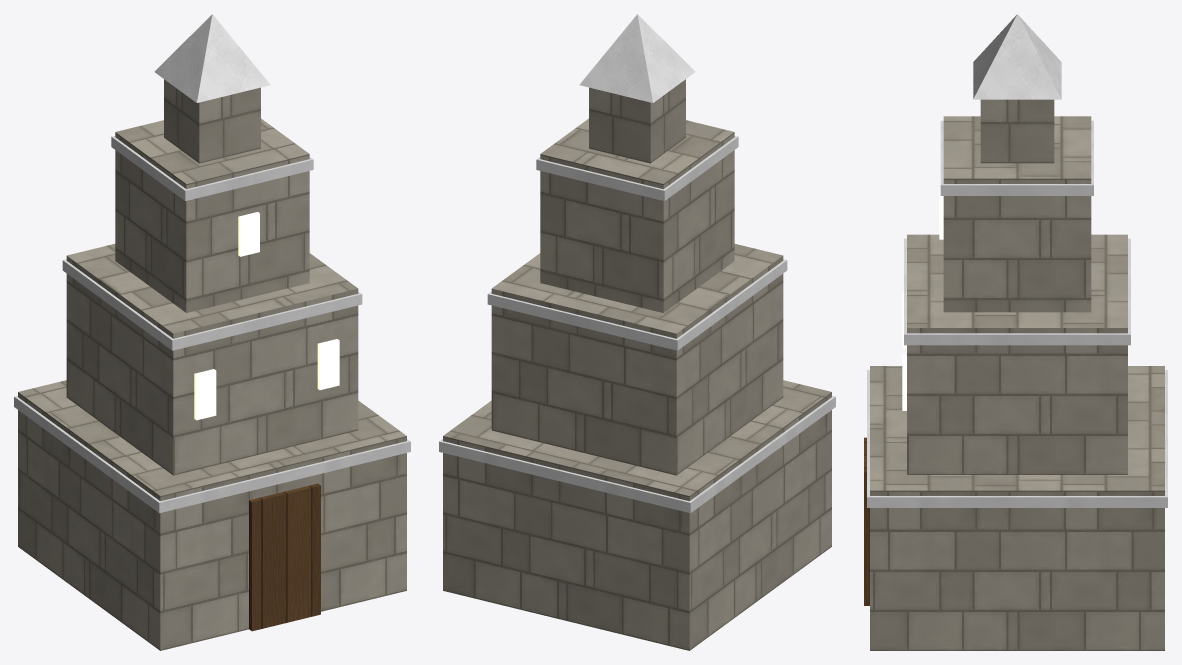
File: protocol.eigenlayer.glb
The picture shows the model from 3 angles, left to right: view 1: azimuth 30°, elevation 25°; view 2: azimuth 150°, elevation 25°; view 3: azimuth 270°, elevation 25°; orthographic projection. The views are drawn at different scales.
Visible parts, largest first — view 1: building.protocol.eigenlayer; view 2: building.protocol.eigenlayer; view 3: building.protocol.eigenlayer.
Part boxes in pixels (x1=…): building.protocol.eigenlayer: x1=14, y1=14, x2=410, y2=650; building.protocol.eigenlayer: x1=439, y1=14, x2=835, y2=650; building.protocol.eigenlayer: x1=864, y1=14, x2=1167, y2=650.
Bounding box in the file's own units: 2.04 × 4.3 × 2.06.
Materials: 5 (4 with a texture image).
